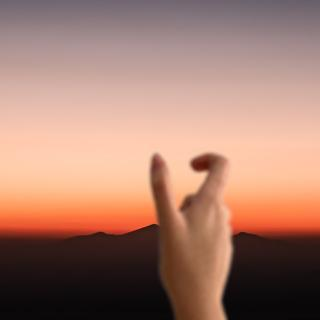Irritated: (134, 146, 242, 314)
